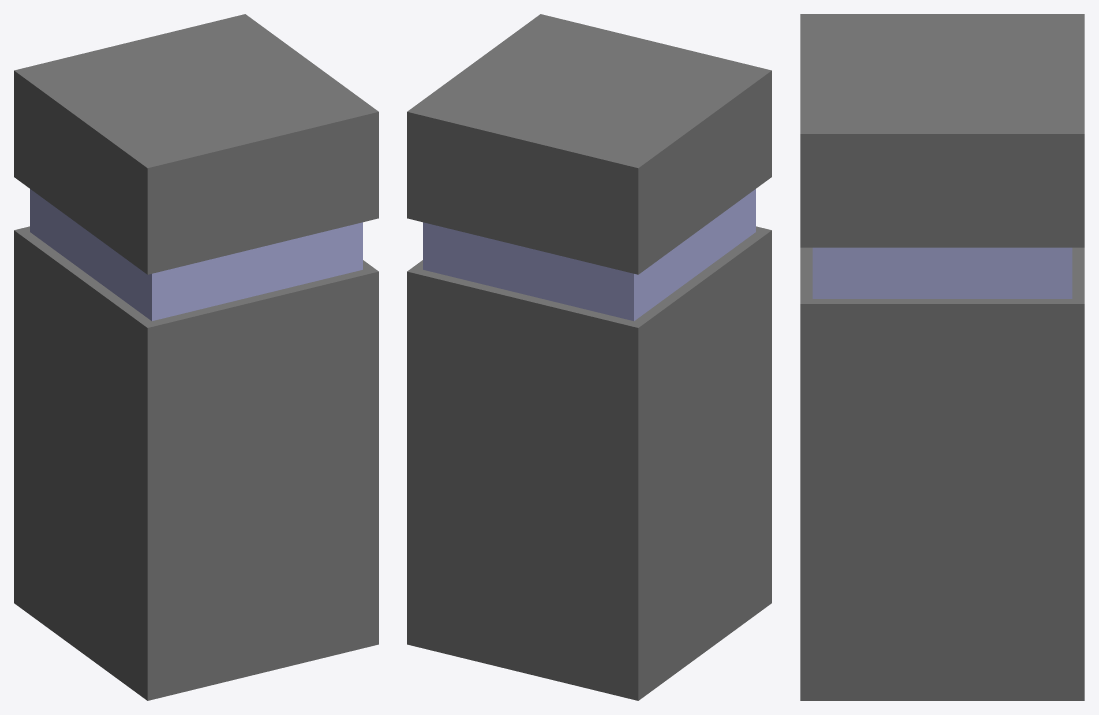
Rendered from Stage002 1.fbx.
3 views of the same model, side by side, from view 1: azimuth 30°, elevation 25°; view 2: azimuth 150°, elevation 25°; view 3: azimuth 270°, elevation 25° (orthographic). The views are drawn at different scales.
Visible parts, largest first — view 1: Cube; view 2: Cube; view 3: Cube.
Part boxes in pixels (bbox=[...]): Cube: bbox=[14, 14, 378, 700]; Cube: bbox=[407, 14, 771, 700]; Cube: bbox=[800, 14, 1084, 700].
Size of the model in its own units: 200 by 440 by 200.
